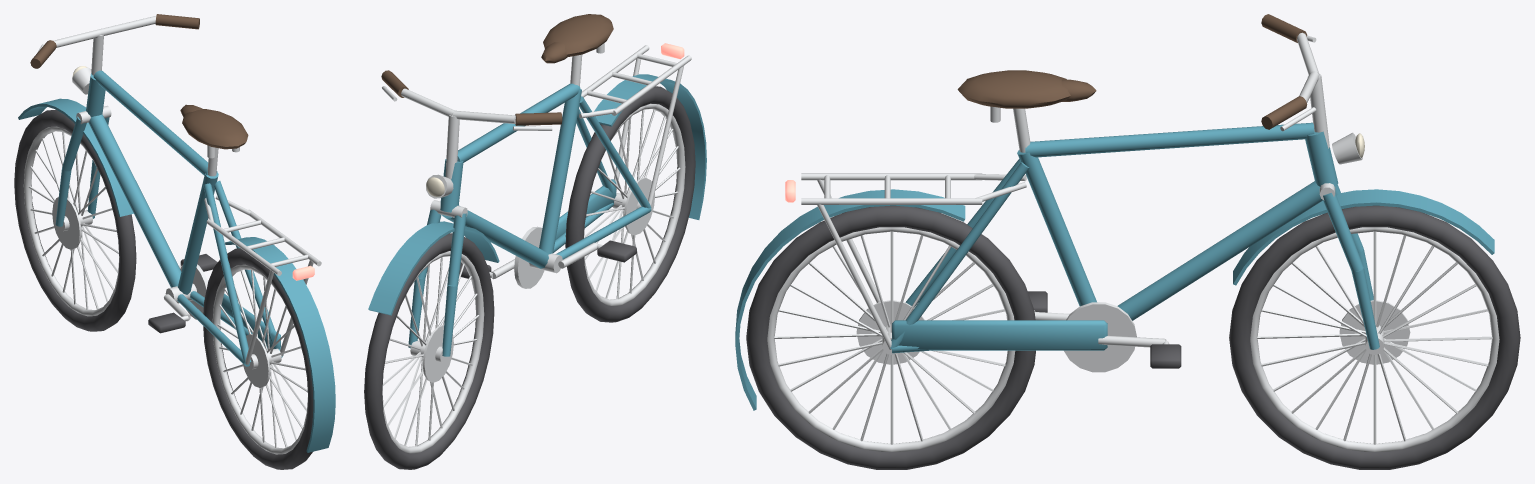
File: OW_Bicycle.fbx
3 views of the same model, side by side, from view 1: azimuth 30°, elevation 25°; view 2: azimuth 150°, elevation 25°; view 3: azimuth 270°, elevation 25° (orthographic). The views are drawn at different scales.
Visible parts, largest first — view 1: Frame, Wheel_Front, Wheel_Rear, Fork, Crank; view 2: Frame, Wheel_Front, Wheel_Rear, Fork, Crank; view 3: Frame, Wheel_Front, Wheel_Rear, Fork, Crank.
Part boxes in pixels (x1,y1,x2,y2): Frame: (86,70,335,452); Wheel_Front: (14,109,136,331); Wheel_Rear: (203,248,313,469); Fork: (18,14,199,226); Crank: (148,254,217,333); Frame: (440,14,706,273); Wheel_Front: (364,233,494,469); Wheel_Rear: (565,86,695,322); Fork: (368,70,562,356); Crank: (459,226,636,288); Frame: (735,70,1338,410); Wheel_Front: (1229,205,1520,469); Wheel_Rear: (746,205,1035,469); Fork: (1233,14,1494,349); Crank: (1028,291,1181,372).
Bounding box in the file's own units: 0.5813 × 1.04 × 1.82.
